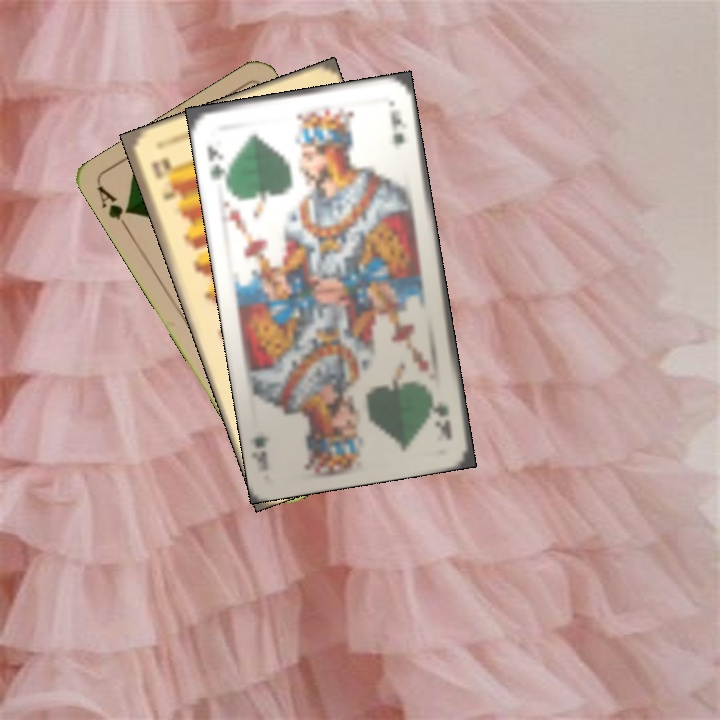E10: (148, 155, 178, 202)
GA: (93, 182, 135, 235)
GK: (203, 141, 231, 187), (431, 397, 455, 443)
